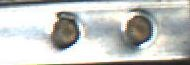joints: (115, 7, 160, 49), (49, 9, 85, 50)
